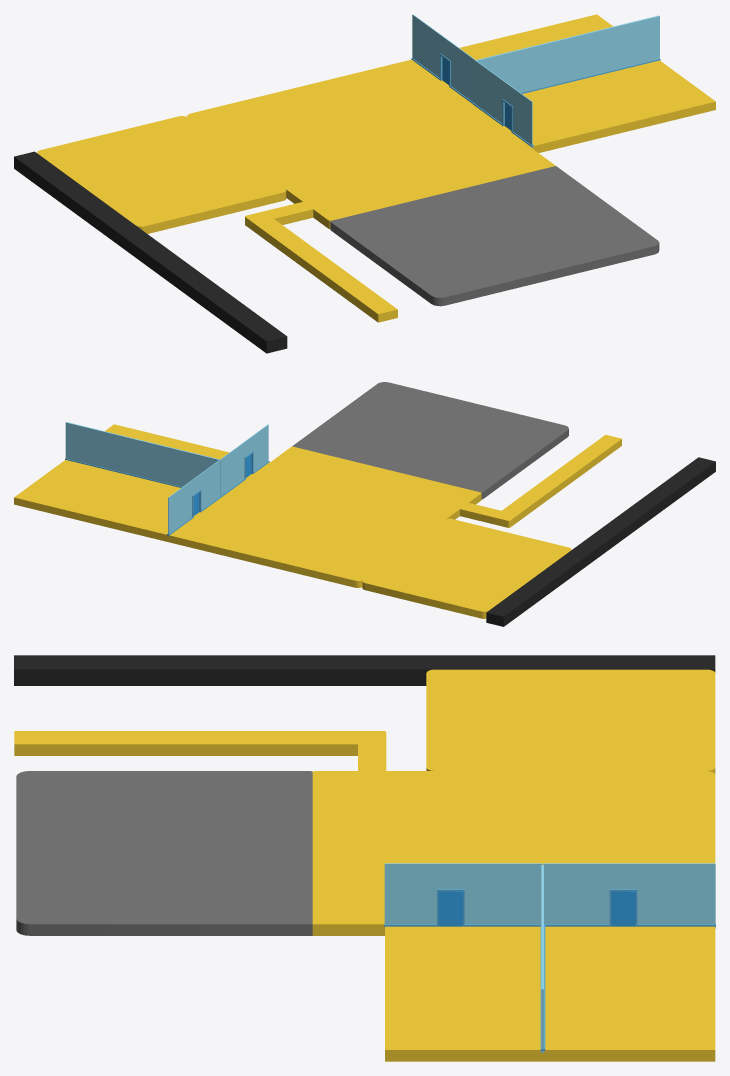
Rendered from wall and floor (1).fbx.
3 renders of one model, top to bottom at view 1: azimuth 30°, elevation 25°; view 2: azimuth 150°, elevation 25°; view 3: azimuth 270°, elevation 25°, orthographic. The views are drawn at different scales.
Parts seen in each view (by area): view 1: floor, floor.003, floor.002, floor.004, wall.001, floor.001, wall.002, wall.003; view 2: floor, floor.003, floor.002, floor.004, wall.001, floor.001, wall.002, wall.003; view 3: floor, floor.003, floor.002, floor.004, wall.002, floor.001, wall.003, wall.001, door.001, door.
Part boxes in pixels (x1=…): floor: x1=187, y1=14, x2=715, y2=228; floor.003: x1=330, y1=166, x2=659, y2=306; floor.002: x1=37, y1=116, x2=286, y2=233; floor.004: x1=14, y1=151, x2=287, y2=353; wall.001: x1=476, y1=15, x2=660, y2=93; floor.001: x1=245, y1=202, x2=397, y2=322; wall.002: x1=411, y1=14, x2=474, y2=104; wall.003: x1=473, y1=60, x2=533, y2=148; floor: x1=14, y1=424, x2=481, y2=587; floor.003: x1=292, y1=382, x2=568, y2=499; floor.002: x1=362, y1=518, x2=571, y2=618; floor.004: x1=486, y1=457, x2=715, y2=626; wall.001: x1=65, y1=422, x2=219, y2=487; floor.001: x1=460, y1=434, x2=621, y2=527; wall.002: x1=167, y1=459, x2=221, y2=536; wall.003: x1=220, y1=424, x2=269, y2=496; floor: x1=312, y1=771, x2=715, y2=1061; floor.003: x1=16, y1=771, x2=312, y2=935; floor.002: x1=426, y1=669, x2=715, y2=774; floor.004: x1=14, y1=655, x2=715, y2=685; wall.002: x1=543, y1=863, x2=715, y2=928; floor.001: x1=14, y1=731, x2=386, y2=770; wall.003: x1=384, y1=863, x2=542, y2=928; wall.001: x1=540, y1=865, x2=545, y2=1052; door.001: x1=438, y1=891, x2=463, y2=926; door: x1=611, y1=891, x2=635, y2=926.
Bounding box in the file's own units: 101 × 9.35 × 75.7.
